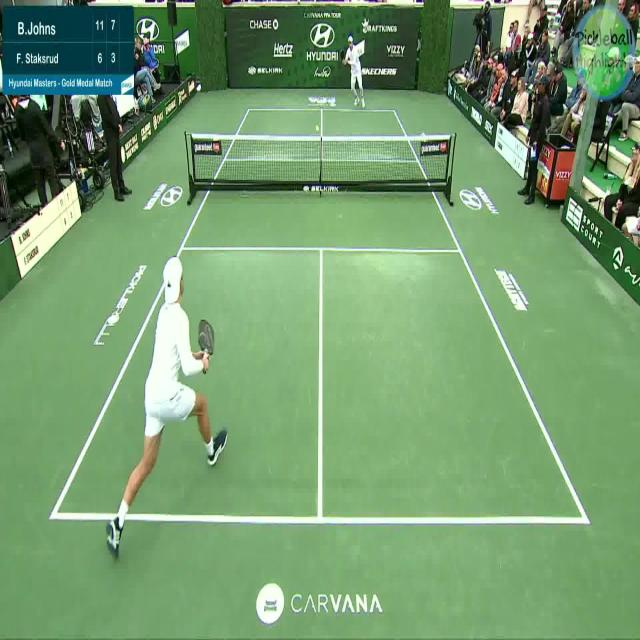ball: (314, 124, 321, 133)
